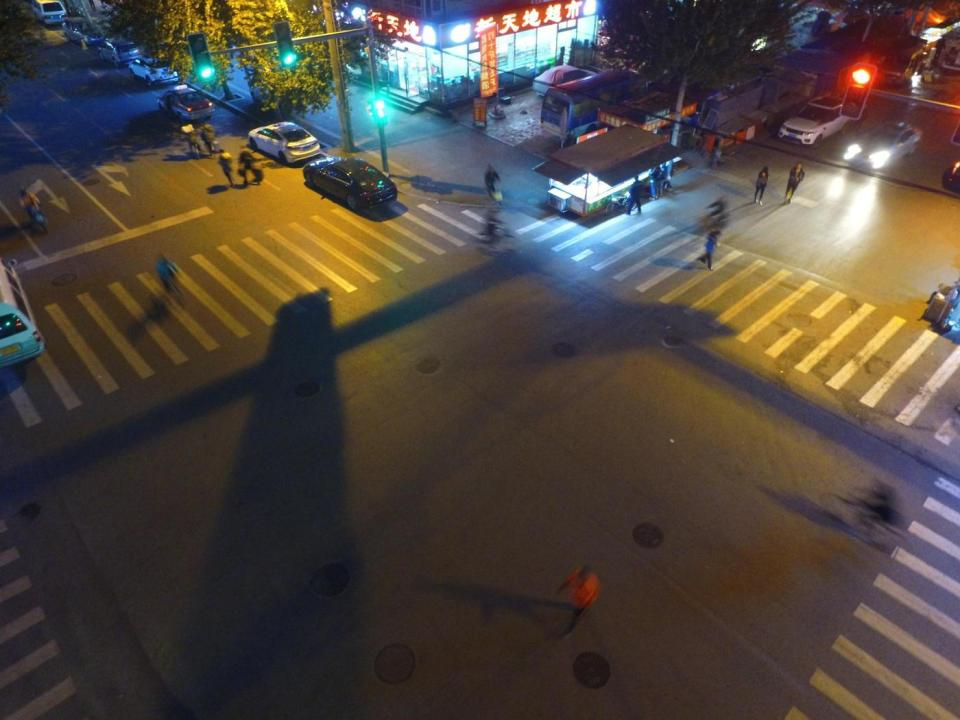bus: (539, 64, 656, 136)
car: (304, 155, 398, 210), (876, 26, 950, 86), (846, 119, 923, 172), (777, 94, 854, 144), (246, 118, 321, 166), (155, 84, 216, 120), (532, 62, 595, 96), (126, 49, 179, 87), (100, 33, 137, 70), (64, 16, 100, 46), (30, 0, 67, 26)
truck: (598, 73, 724, 145)
van: (0, 256, 48, 366)
